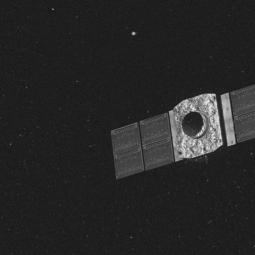soho: (122, 82, 255, 180)
